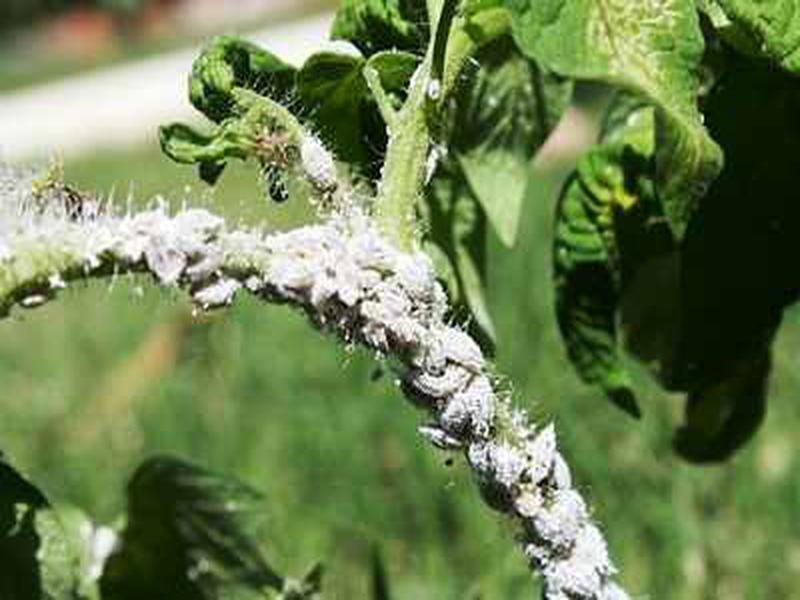Mealy_bug: (16, 179, 444, 340), (430, 351, 627, 592)
